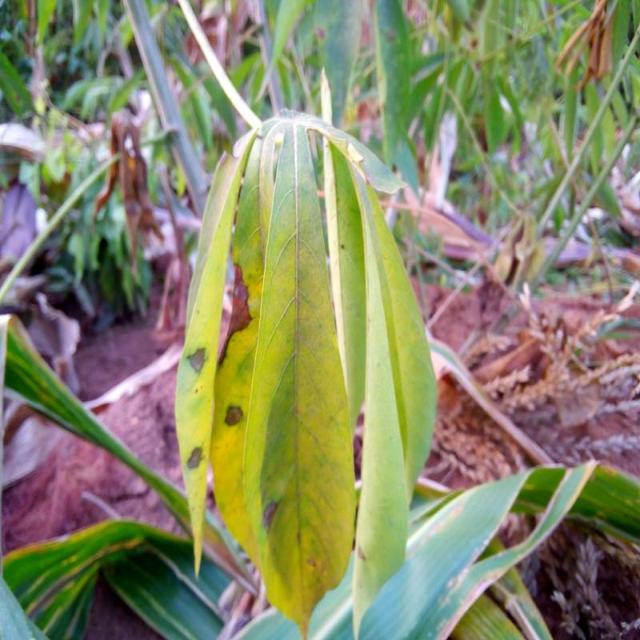cassava leaf: (174, 108, 438, 638), (240, 115, 358, 637)
